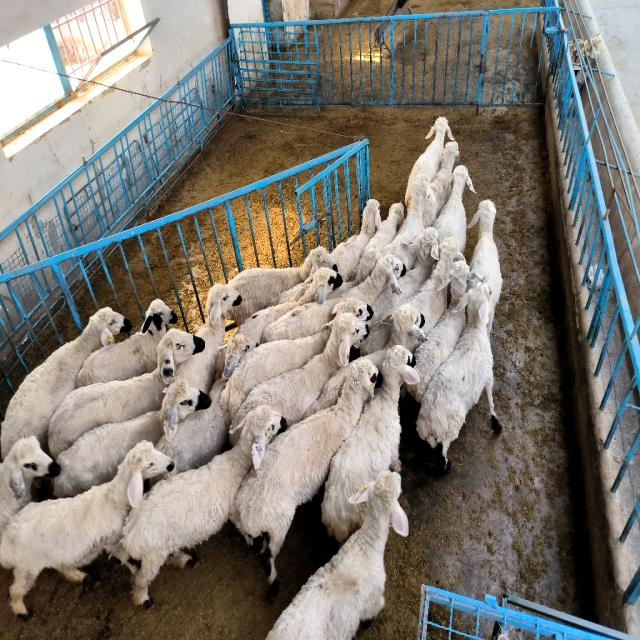sheep: (48, 283, 240, 457), (231, 358, 379, 582), (121, 407, 284, 604), (0, 442, 171, 615), (268, 472, 409, 640), (49, 328, 205, 458), (0, 308, 129, 458), (321, 345, 419, 542), (54, 382, 210, 498), (230, 313, 366, 442), (416, 282, 501, 470), (263, 255, 404, 342), (221, 330, 330, 422), (75, 300, 178, 388), (408, 260, 469, 402), (228, 247, 336, 326), (370, 227, 439, 326), (0, 437, 60, 538), (409, 238, 464, 333), (382, 173, 434, 268), (468, 200, 502, 332), (405, 117, 454, 206), (330, 200, 381, 281), (355, 203, 404, 283), (434, 165, 475, 252), (422, 142, 459, 228), (328, 298, 372, 321)
